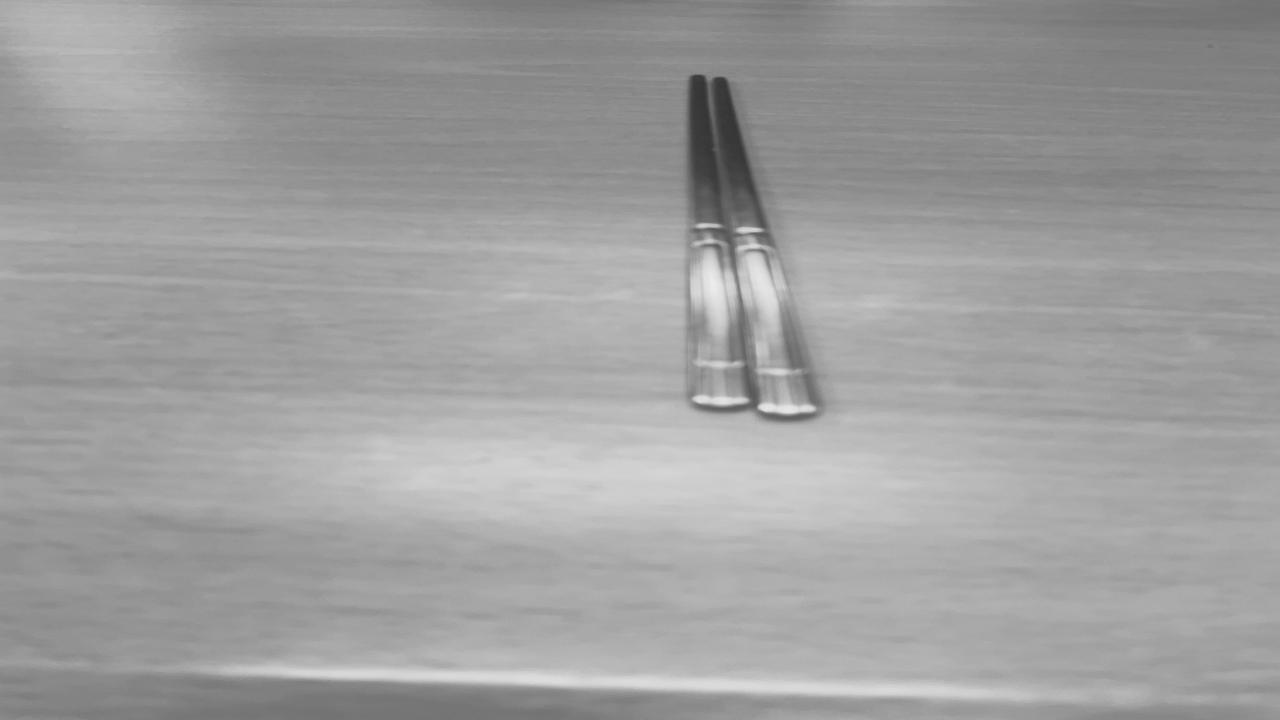chopstick: (688, 75, 821, 413)
